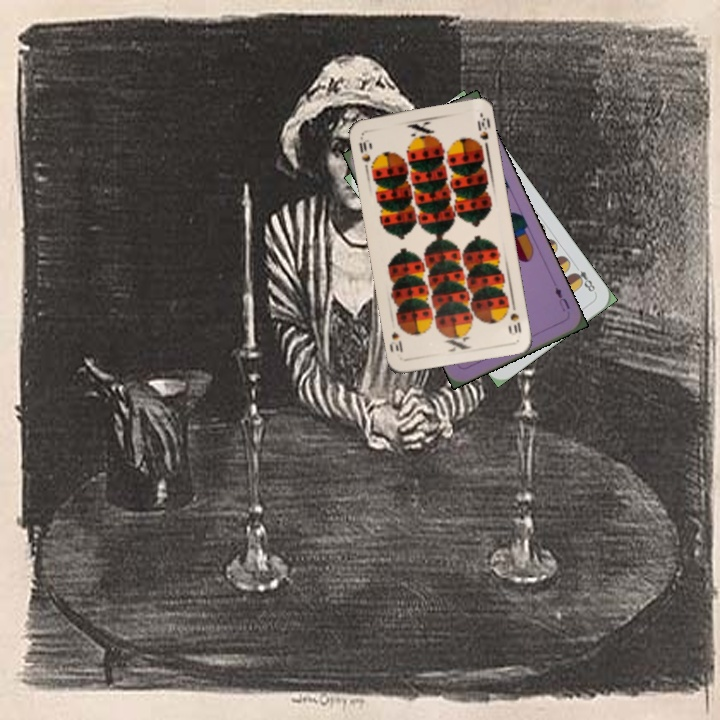E8: (568, 261, 598, 296)
EU: (551, 283, 573, 314)
S10: (506, 298, 524, 336), (355, 138, 373, 164)
